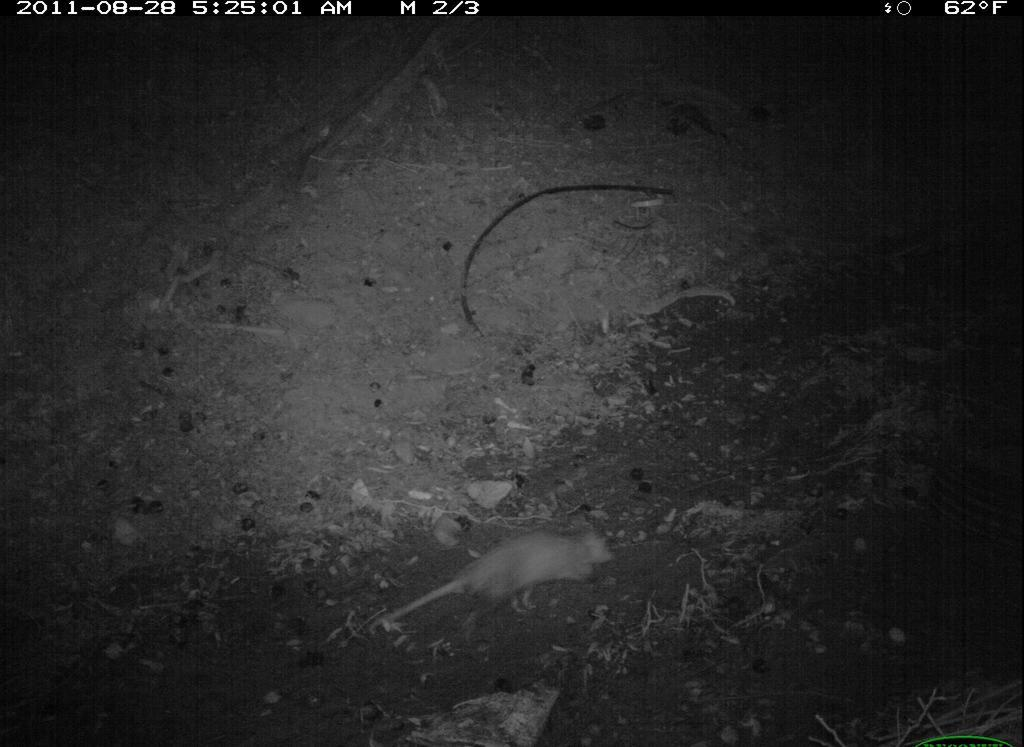opossum: (355, 509, 631, 645)
